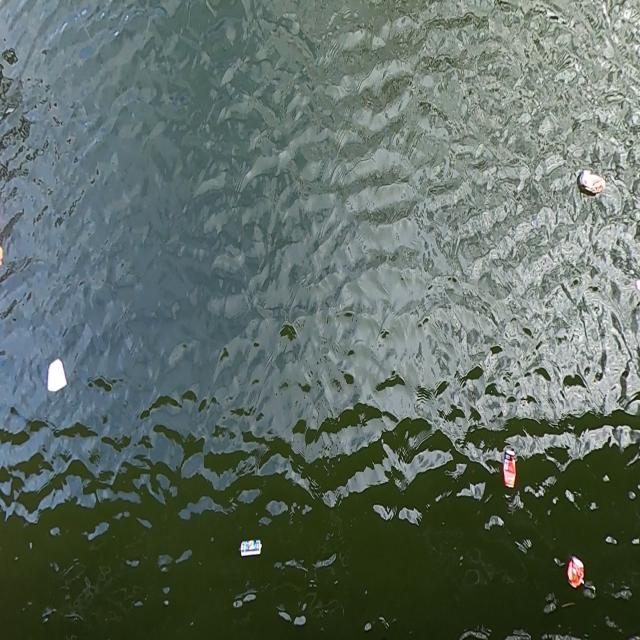Non plastique: (40, 352, 72, 394), (574, 167, 609, 200), (500, 443, 520, 495), (566, 553, 586, 597), (236, 537, 268, 563)
